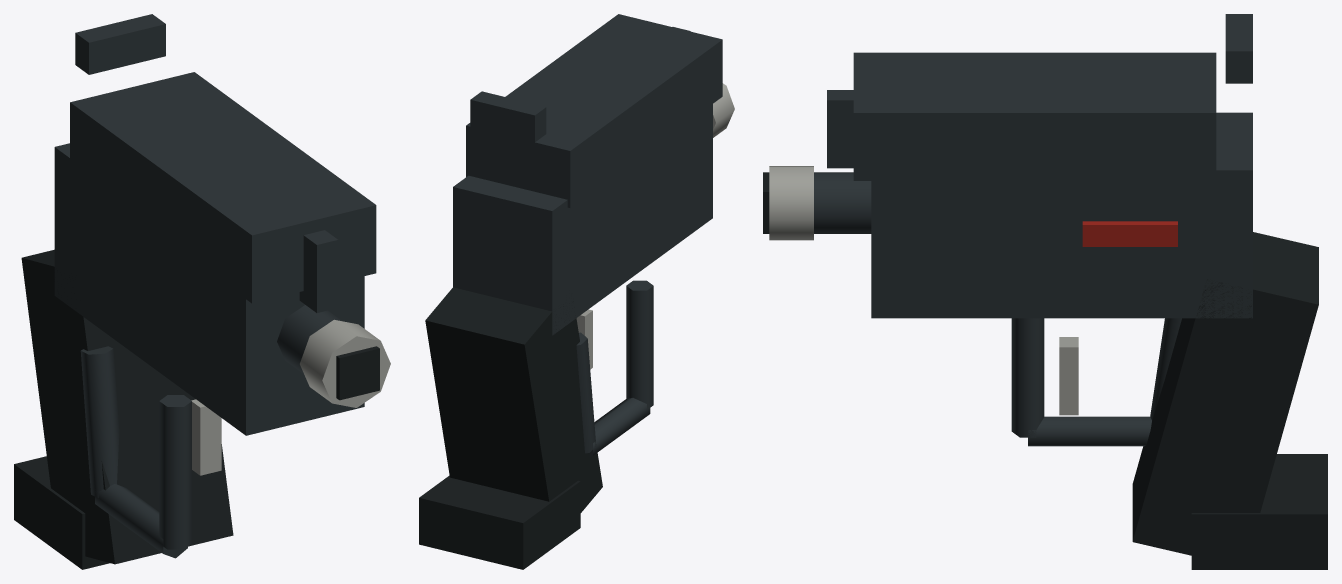
The picture shows the model from 3 angles, left to right: view 1: azimuth 30°, elevation 25°; view 2: azimuth 150°, elevation 25°; view 3: azimuth 270°, elevation 25°; orthographic projection. The views are drawn at different scales.
Visible parts, largest first — view 1: weapon-pistol-0-painted; view 2: weapon-pistol-0-painted; view 3: weapon-pistol-0-painted.
Boxes of the visible parts, x1,y1,x2,y2 form: weapon-pistol-0-painted: (14,14,390,569); weapon-pistol-0-painted: (419,14,734,569); weapon-pistol-0-painted: (763,14,1327,569).
Size of the model in its own units: 0.2663 by 0.9903 by 1.
